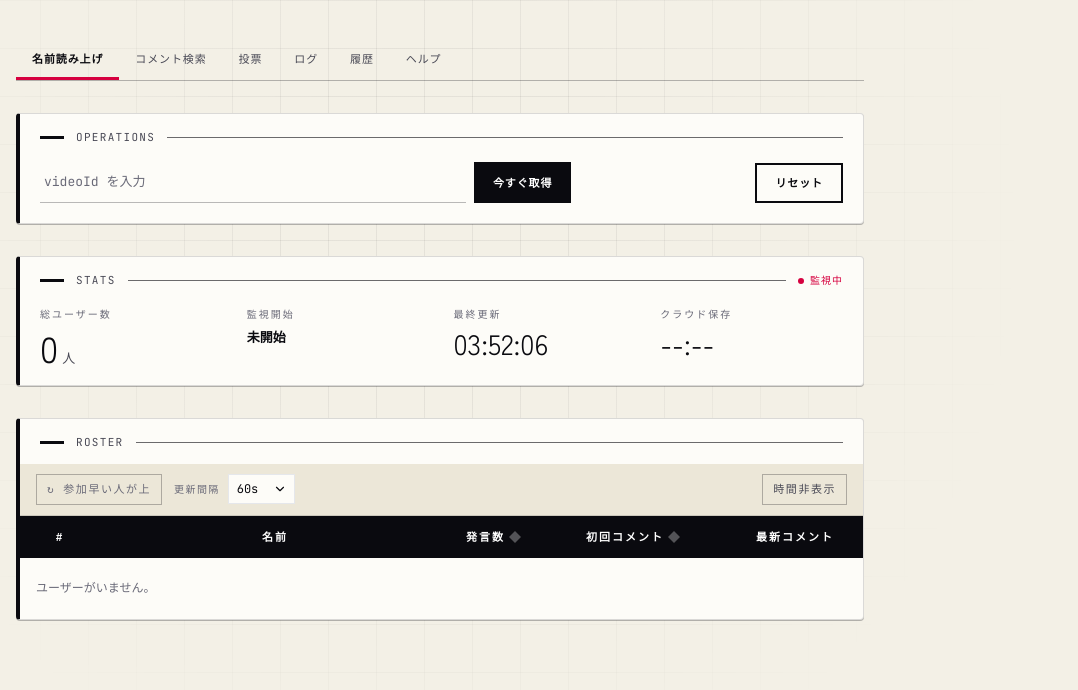
it: App Integration (MSW) › 初回コメント時間が正しく表示される
The image size is (1078, 690).
Expected: the button "初回コメント" is shown, [586, 528, 680, 546]
Expected: the text "ユーザーがいません。" is shown, [36, 580, 155, 596]
# 今すぐ取得でユーザーを追加 (status 反映で ACTIVE 化を待つ)
Step 1. Click the button "今すぐ取得" → x=523, y=183, box [474, 162, 571, 204]
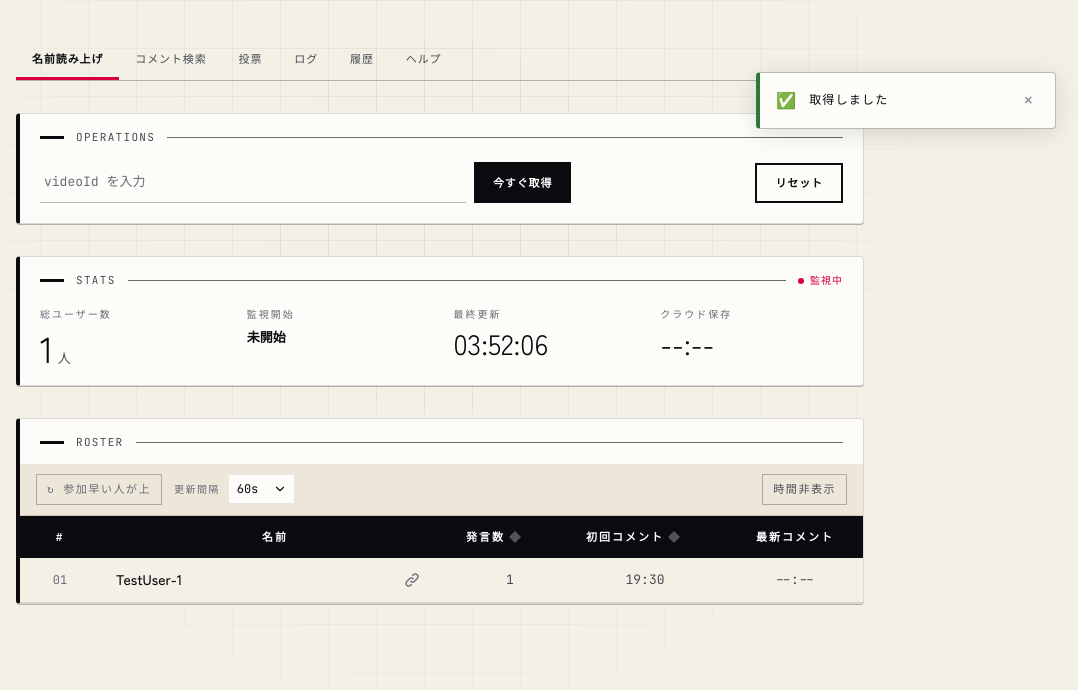
Expected: the text "TestUser-1" is shown, [116, 569, 182, 589]
Expected: the text "19:30" is shown, [570, 558, 720, 602]
